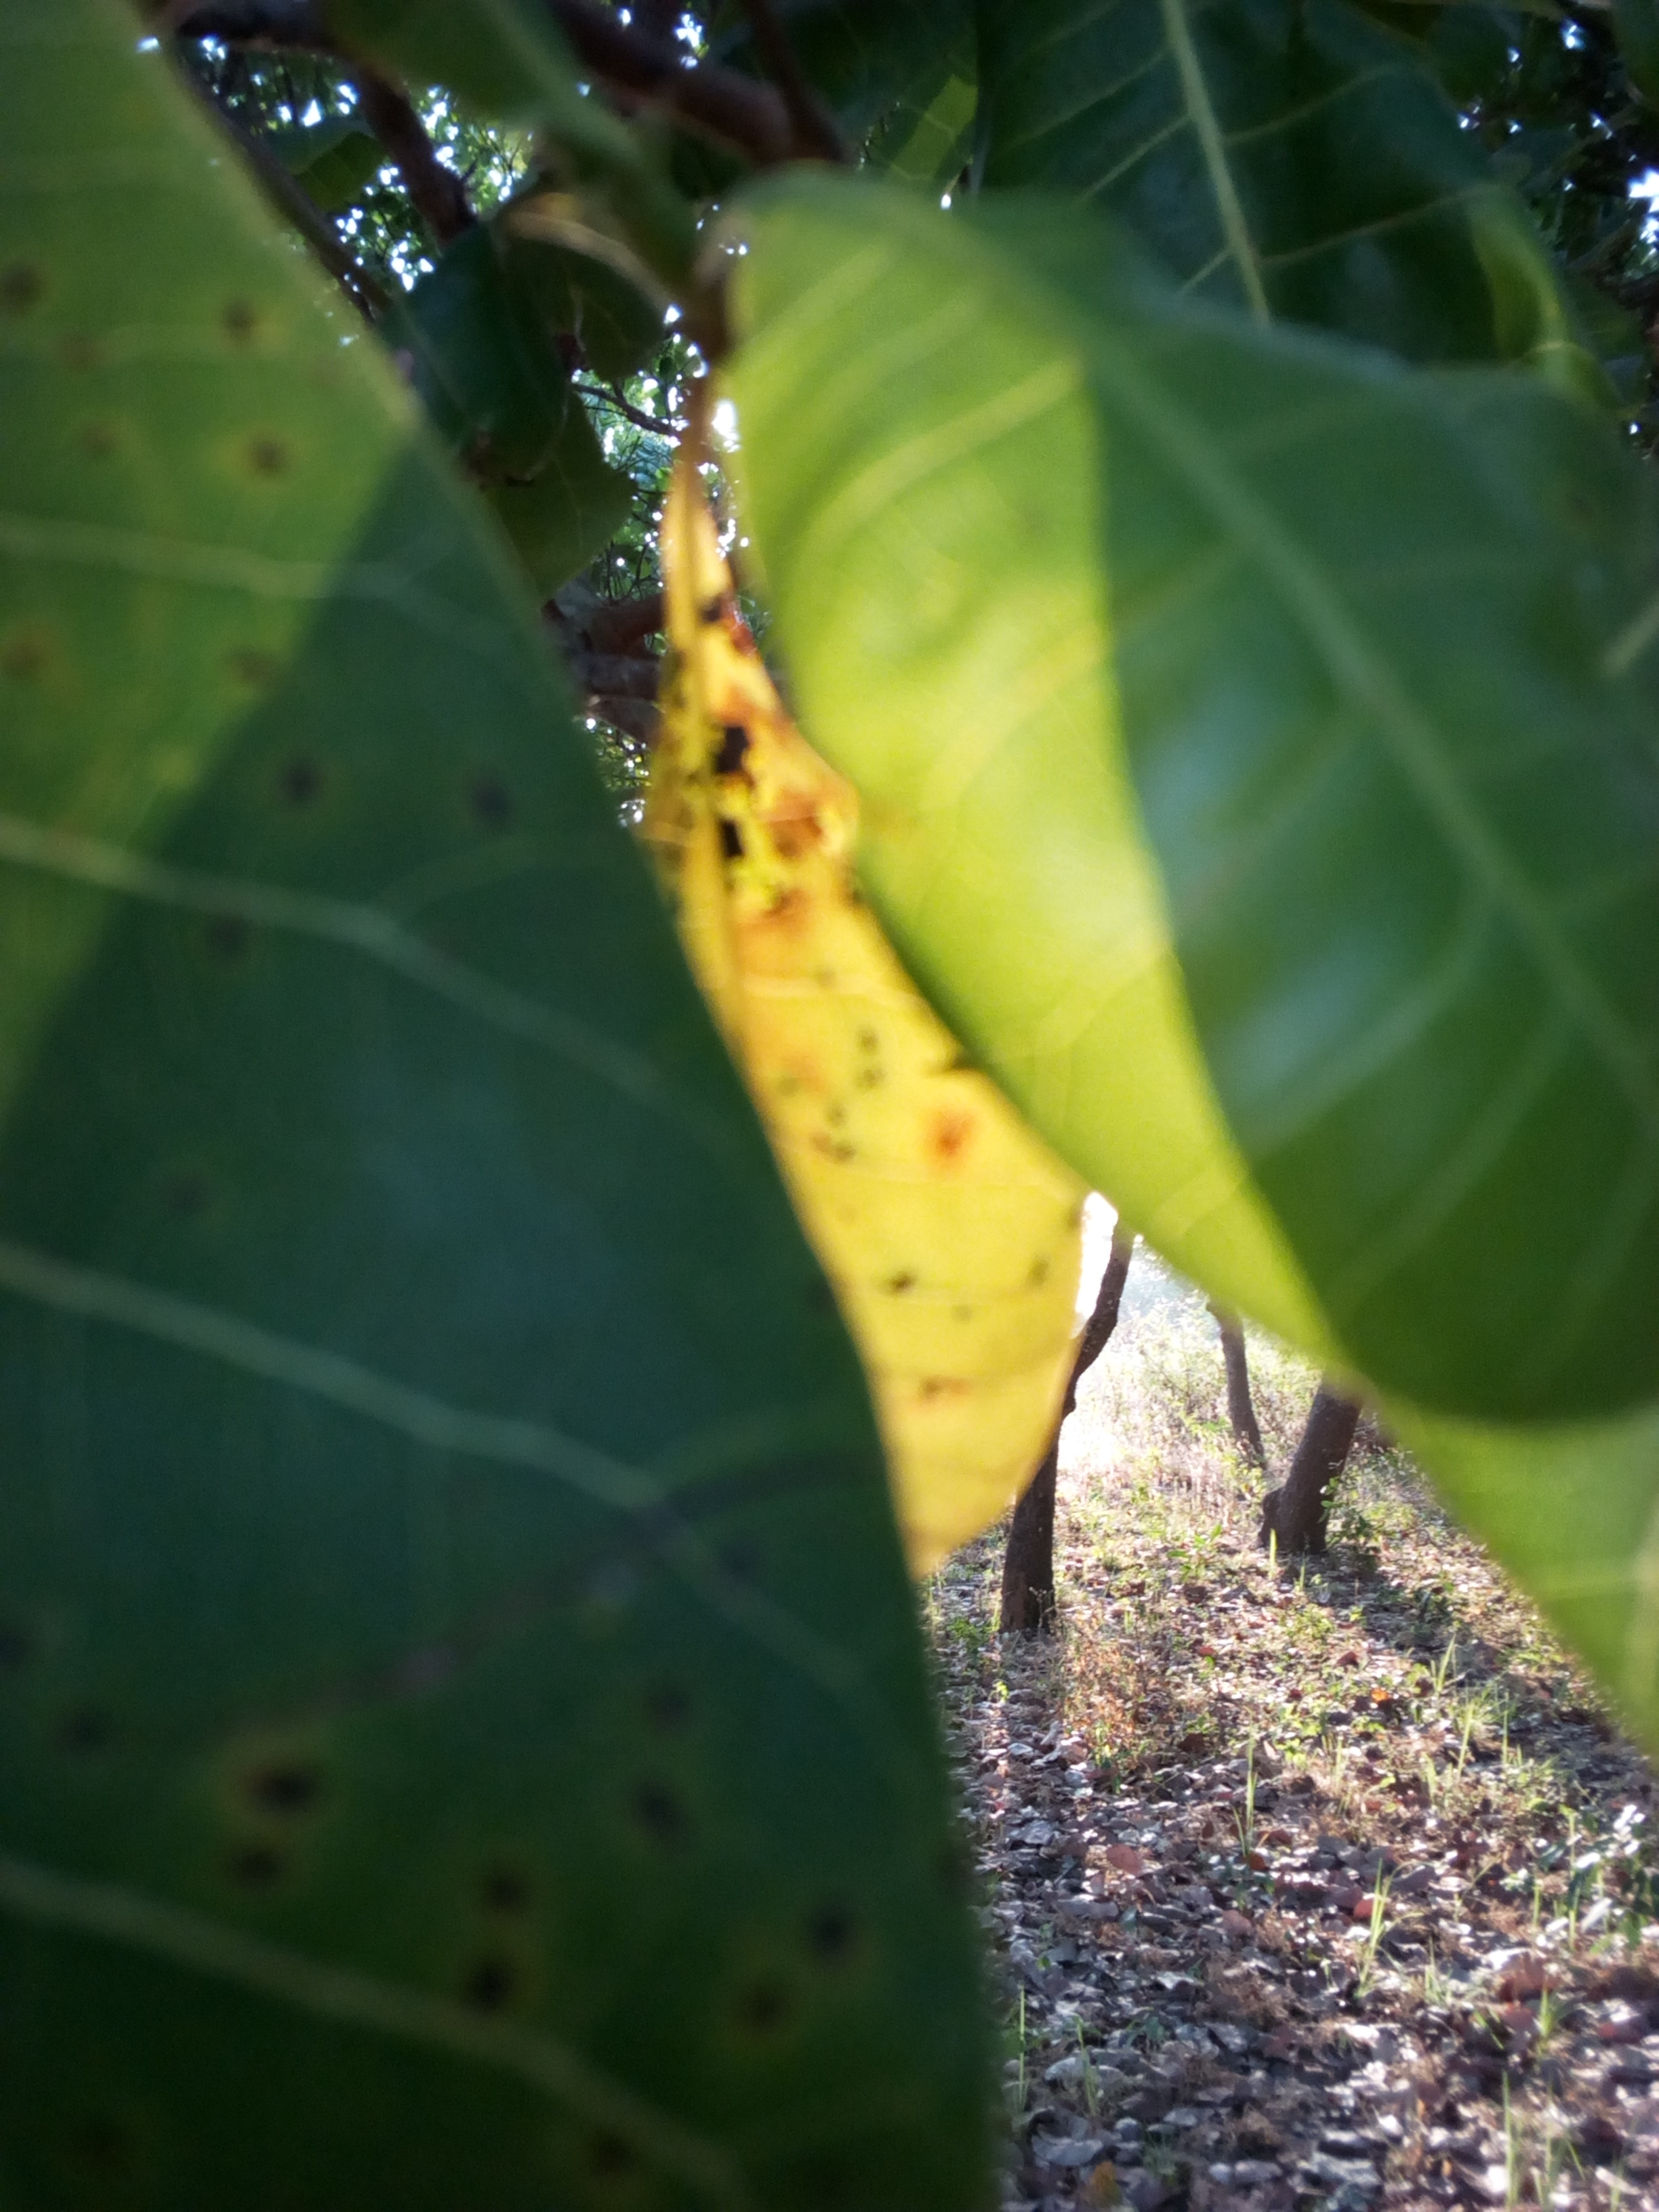Pestalotiose: (30, 289, 972, 2212)
